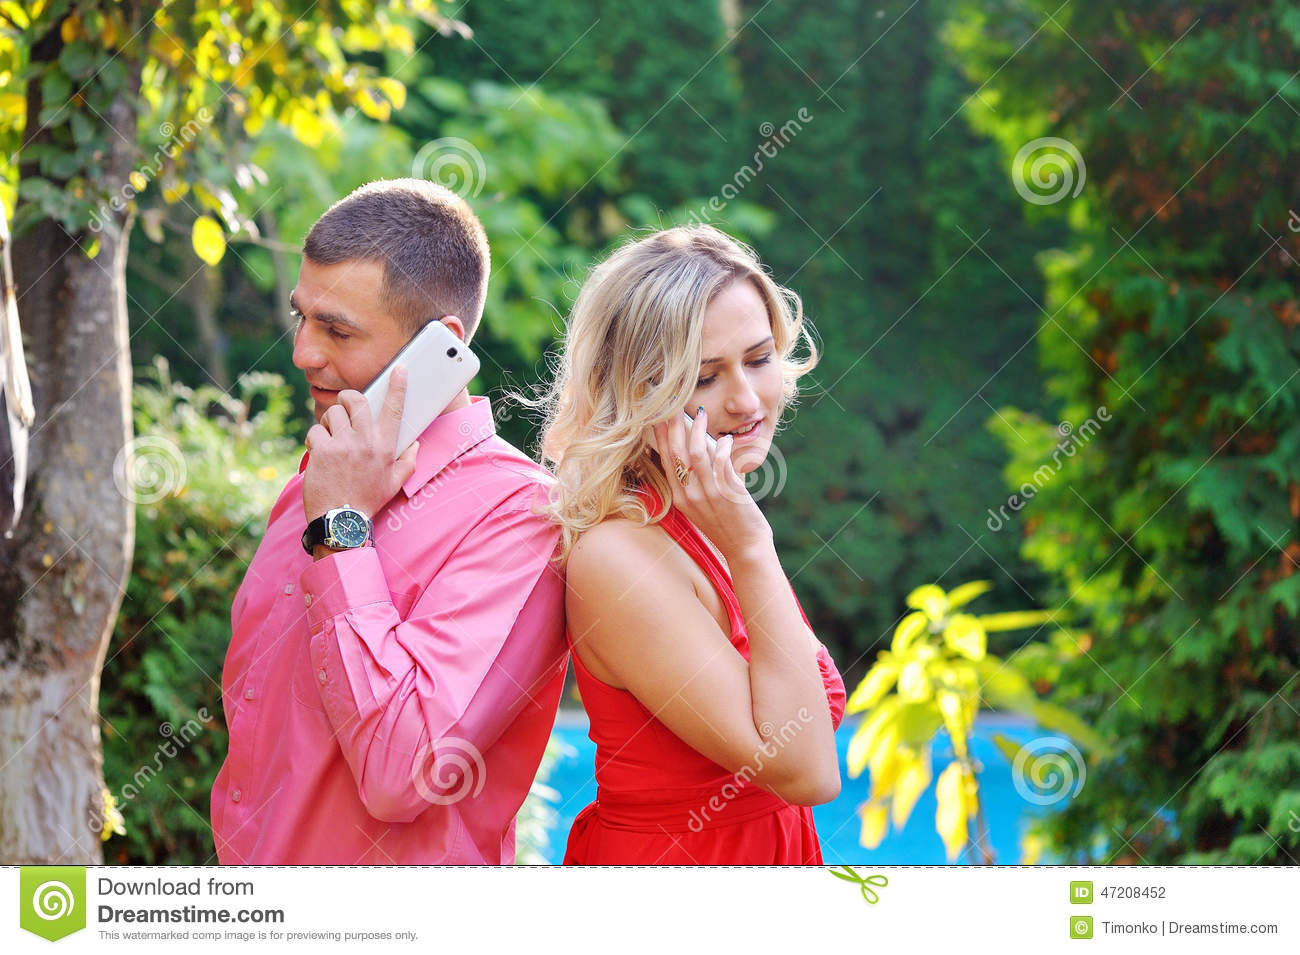phone: (360, 323, 479, 456), (635, 387, 725, 479)
talk: (286, 299, 481, 516), (629, 323, 785, 559)
